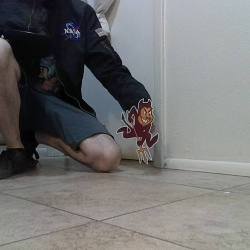sparky: (115, 97, 159, 164)
